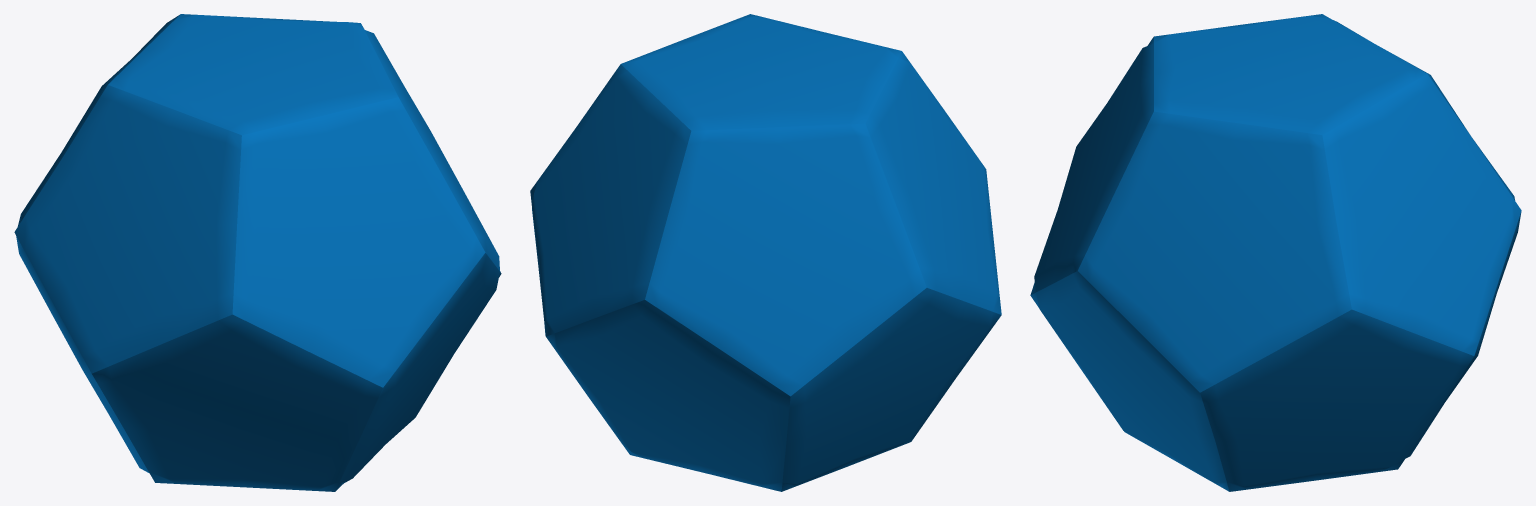
Rendered from Dado 12 caras.fbx.
3 renders of one model, left to right at view 1: azimuth 30°, elevation 25°; view 2: azimuth 150°, elevation 25°; view 3: azimuth 270°, elevation 25°, orthographic. The views are drawn at different scales.
Parts seen in each view (by area): view 1: pDisc15; view 2: pDisc15; view 3: pDisc15.
Boxes of the visible parts, box(x1,y1,x2,y2) form: pDisc15: box(14, 14, 501, 491); pDisc15: box(530, 14, 1001, 491); pDisc15: box(1030, 14, 1521, 491).
Size of the model in its own units: 298 by 262 by 315.
